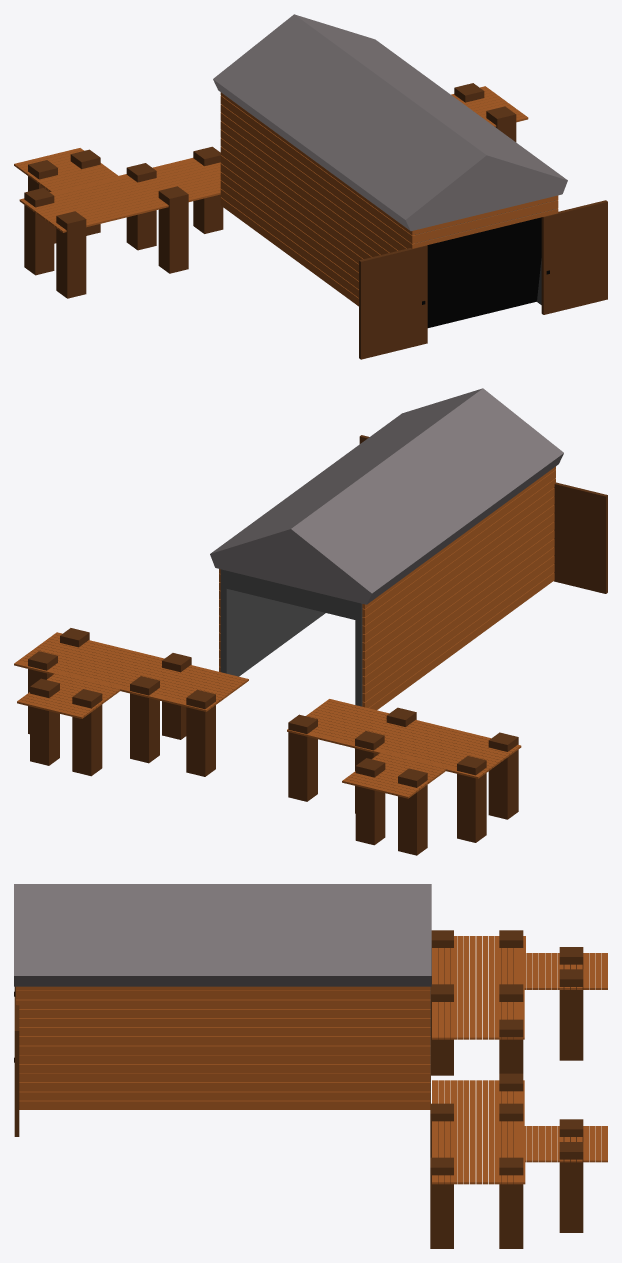
Rendered from Puerto .fbx.
3 views of the same model, one above another, from view 1: azimuth 30°, elevation 25°; view 2: azimuth 150°, elevation 25°; view 3: azimuth 270°, elevation 25° (orthographic). The views are drawn at different scales.
Visible parts, largest first — view 1: Cylinder, Cube.005, Cube.001, Cube.003, Cube.004, Cube.023, Cube.007, Cube.010, Cube.009, Cube.012, Cube.028, Cube.011 (+5 smaller); view 2: Cylinder, Cube.005, Cube, Cube.023, Cube.024, Cube.003, Cube.028, Cube.026, Cube.017, Cube.012, Cube.018, Cube.016 (+8 smaller); view 3: Cube.002, Cylinder, Cube.023, Cube.024, Cube.026, Cube.028, Cube.020, Cube.022, Cube.015, Cube.013, Cube.009, Cube.018 (+7 smaller).
Part boxes in pixels (bbox=[...]): Cylinder: bbox=[213, 14, 567, 231]; Cube.005: bbox=[220, 92, 411, 306]; Cube.001: bbox=[427, 217, 541, 327]; Cube.003: bbox=[359, 245, 427, 359]; Cube.004: bbox=[541, 200, 607, 314]; Cube.023: bbox=[22, 159, 220, 232]; Cube.007: bbox=[411, 195, 558, 248]; Cube.010: bbox=[56, 211, 86, 298]; Cube.009: bbox=[158, 186, 188, 273]; Cube.012: bbox=[24, 188, 54, 275]; Cube.028: bbox=[14, 148, 194, 202]; Cube.011: bbox=[126, 163, 156, 250]; Cylinder: bbox=[210, 388, 563, 604]; Cube.005: bbox=[362, 467, 555, 710]; Cube: bbox=[220, 569, 362, 706]; Cube.023: bbox=[306, 699, 521, 776]; Cube.024: bbox=[16, 632, 248, 710]; Cube.003: bbox=[554, 482, 607, 593]; Cube.028: bbox=[287, 729, 480, 798]; Cube.026: bbox=[14, 662, 208, 718]; Cube.017: bbox=[186, 689, 215, 776]; Cube.012: bbox=[457, 756, 486, 842]; Cube.018: bbox=[288, 714, 317, 801]; Cube.016: bbox=[130, 676, 159, 763]; Cube.002: bbox=[17, 986, 430, 1109]; Cylinder: bbox=[14, 884, 431, 986]; Cube.023: bbox=[432, 936, 519, 1039]; Cube.024: bbox=[432, 1080, 519, 1184]; Cube.026: bbox=[520, 1080, 607, 1184]; Cube.028: bbox=[520, 936, 607, 1039]; Cube.020: bbox=[559, 969, 583, 1060]; Cube.022: bbox=[559, 1142, 583, 1232]; Cube.015: bbox=[499, 1157, 523, 1248]; Cube.013: bbox=[430, 1157, 453, 1248]; Cube.009: bbox=[431, 984, 453, 1075]; Cube.018: bbox=[499, 1019, 523, 1073].
Bounding box in the file's own units: 996 × 467 × 1016.
